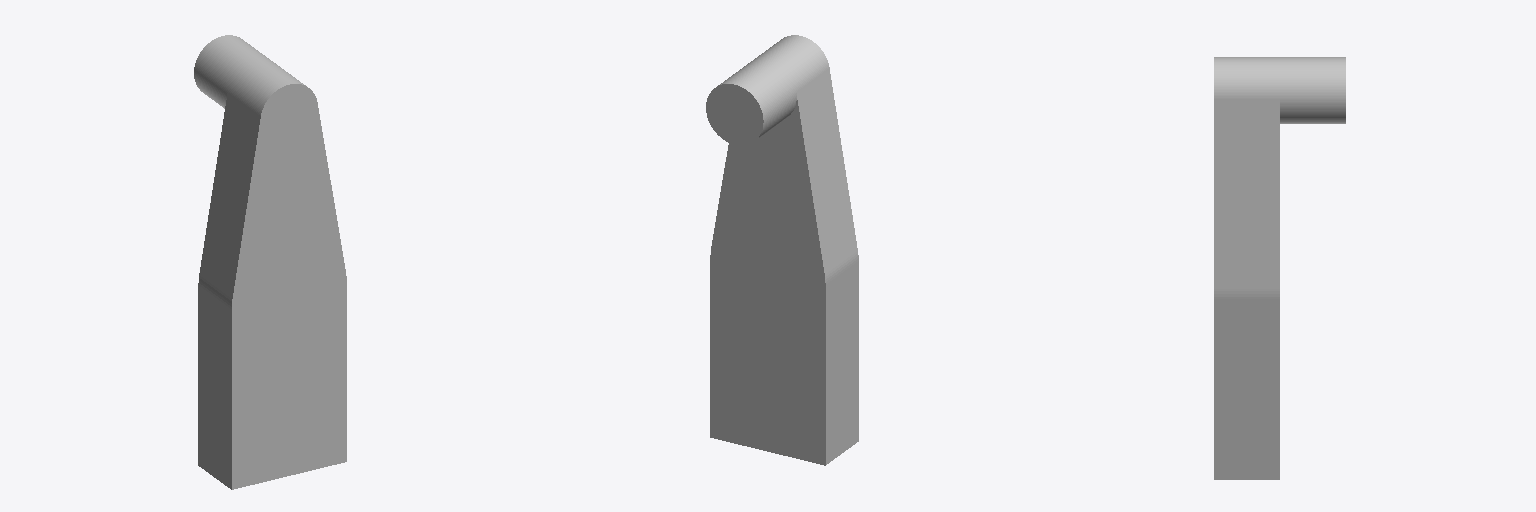
Rendered from wrist.obj.
3 renders of one model, left to right at view 1: azimuth 30°, elevation 25°; view 2: azimuth 150°, elevation 25°; view 3: azimuth 270°, elevation 25°, orthographic.
Visible parts, largest first — view 1: Part_Studio_1_-_Wrist; view 2: Part_Studio_1_-_Wrist; view 3: Part_Studio_1_-_Wrist.
Part boxes in pixels (x1,y1,x2,y2): Part_Studio_1_-_Wrist: (194,35,346,489); Part_Studio_1_-_Wrist: (706,35,858,465); Part_Studio_1_-_Wrist: (1214,57,1345,479).
Bounding box in the file's own units: 200 × 650 × 200.